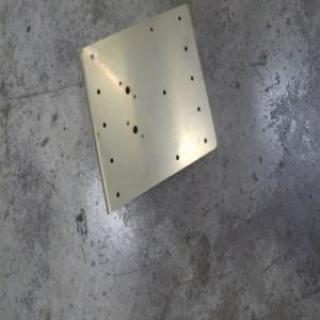MetalSheettrack_idkeyframe: (75, 2, 218, 217)
